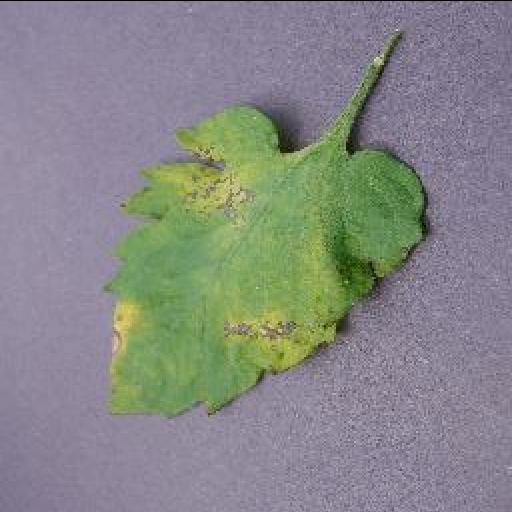disease_tomato: (98, 104, 430, 413)
